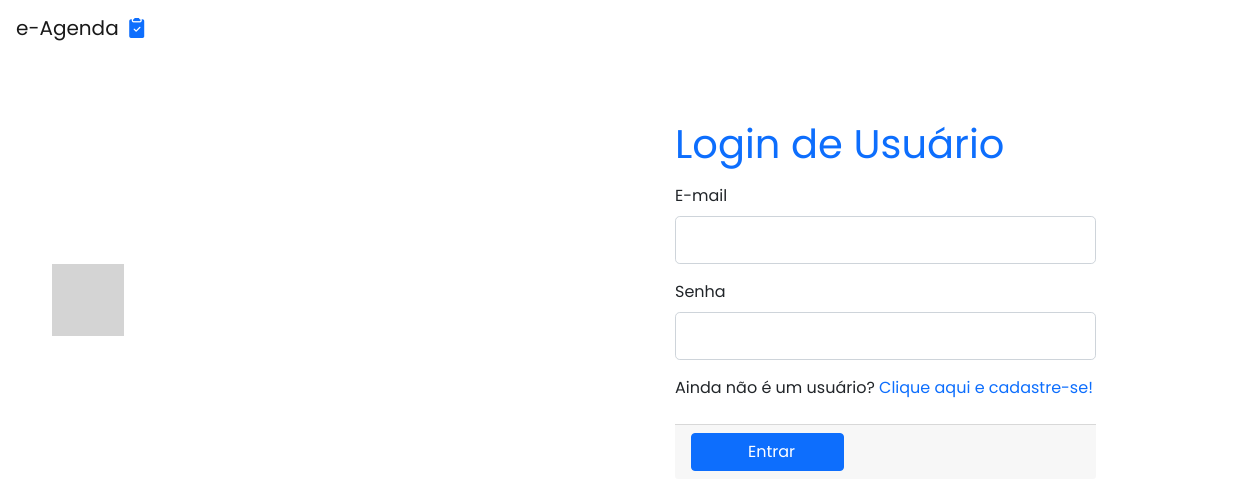
Test: Processo de login do usuário › Deve - Notificar usuário inválido
Type "tudo errado" into the field named "email".
click(886, 240); type("tudo errado")  # box [675,216,1096,264]
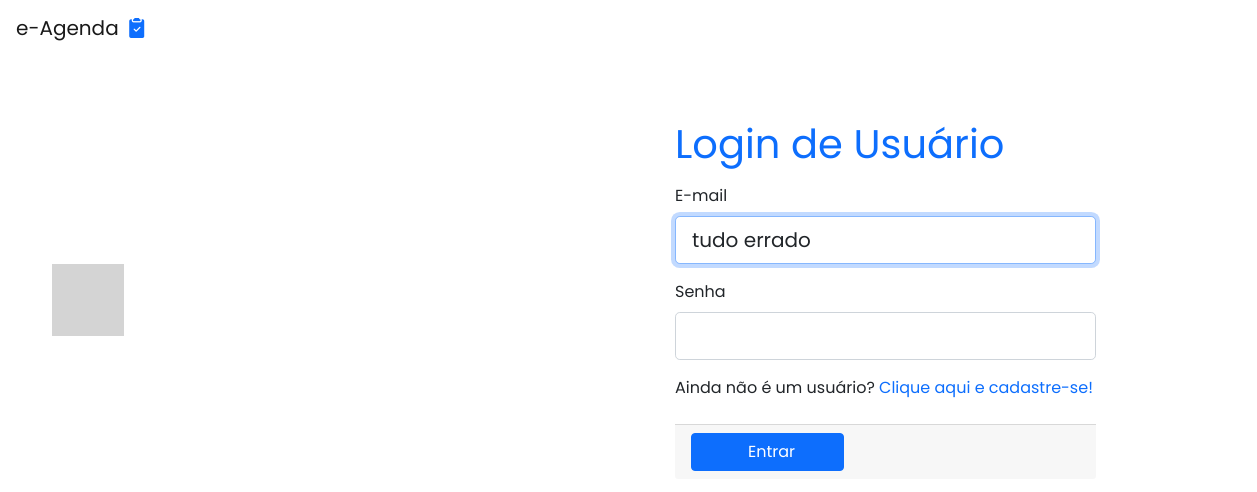
Type "&123Abc" into the password field named "senha".
click(886, 336); type("&123Abc")  # box [675,312,1096,360]
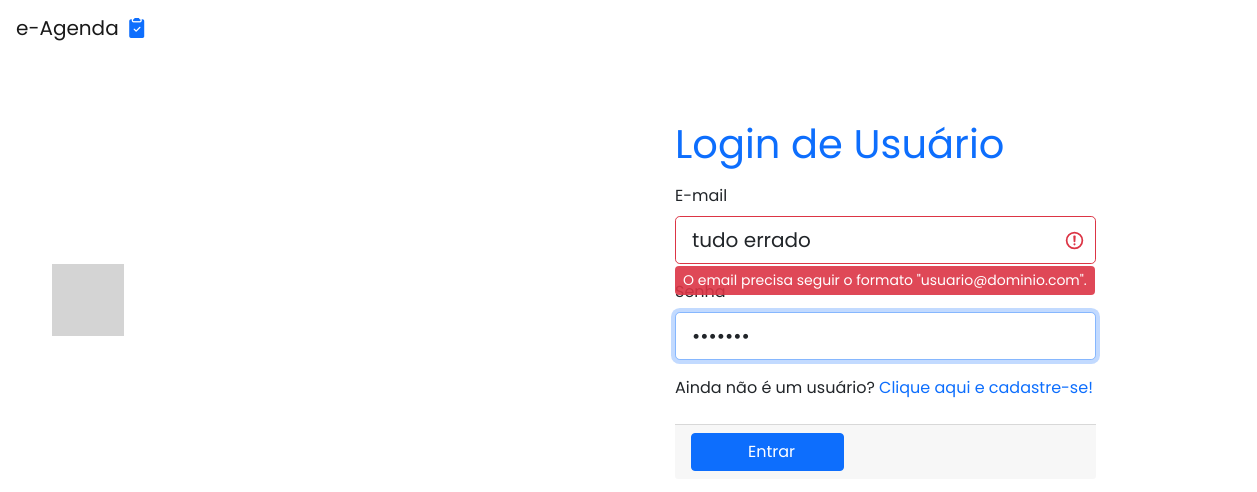
Click the submit button.
click(768, 452)  # box [691,433,844,471]
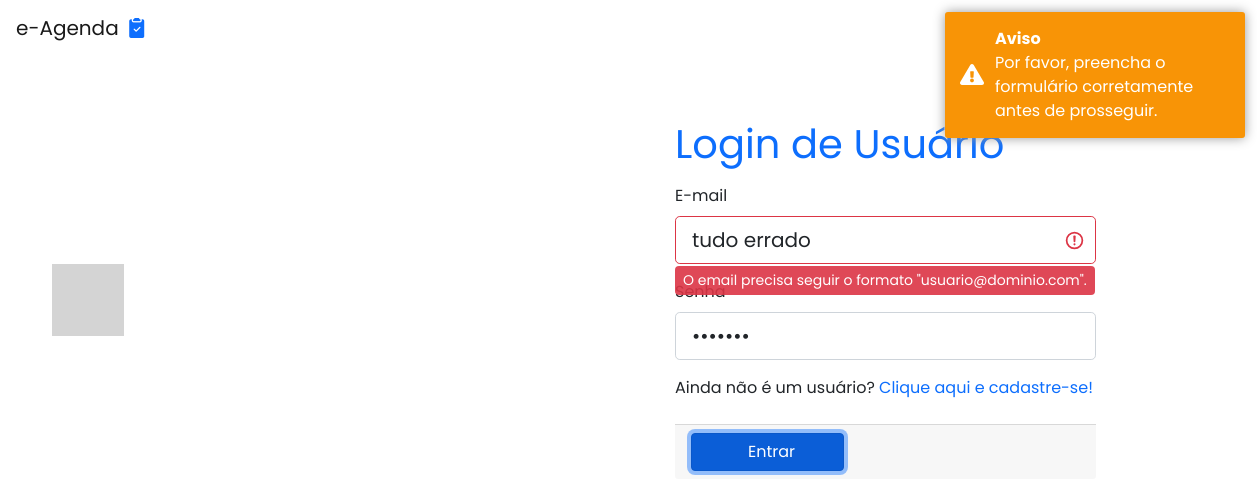
Now the text "Por favor, preencha o formulário corretamente antes de prosseguir." is shown, box [995,51,1193,122]
